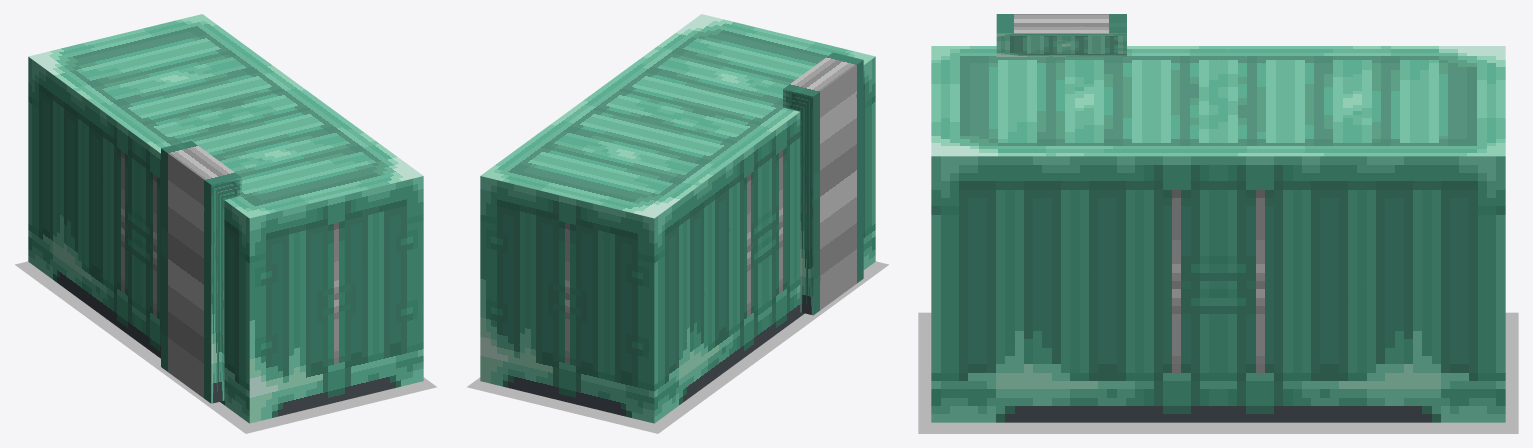
The picture shows the model from 3 angles, left to right: view 1: azimuth 30°, elevation 25°; view 2: azimuth 150°, elevation 25°; view 3: azimuth 270°, elevation 25°; orthographic projection. The views are drawn at different scales.
Visible parts, largest first — view 1: polygon0, polygon1, polygon2; view 2: polygon0, polygon1, polygon2; view 3: polygon0, polygon1, polygon2.
Part boxes in pixels (x1,y1,x2,y2): polygon0: (28, 57, 423, 423); polygon1: (28, 14, 423, 218); polygon2: (15, 261, 436, 433); polygon0: (480, 52, 875, 423); polygon1: (480, 14, 875, 218); polygon2: (467, 261, 888, 433); polygon0: (931, 14, 1505, 422); polygon1: (931, 33, 1505, 156); polygon2: (918, 312, 1518, 433).
Bounding box in the file's own units: 5.62 × 6.25 × 11.5.
